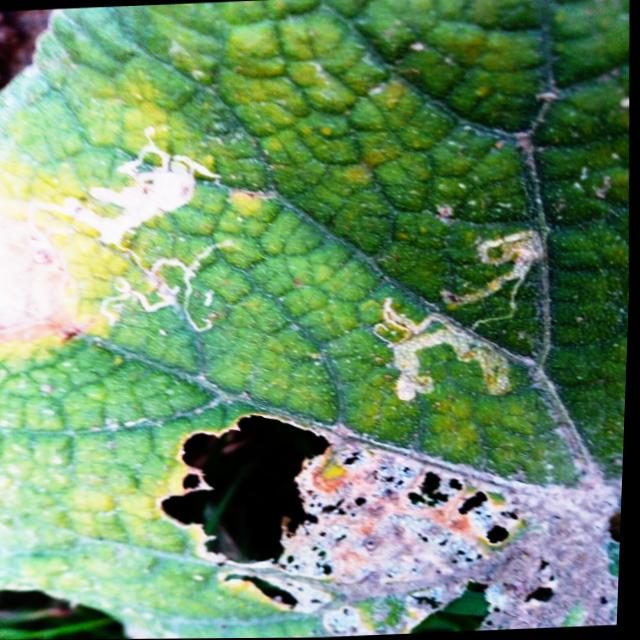Anthracnose: (144, 397, 565, 639)
